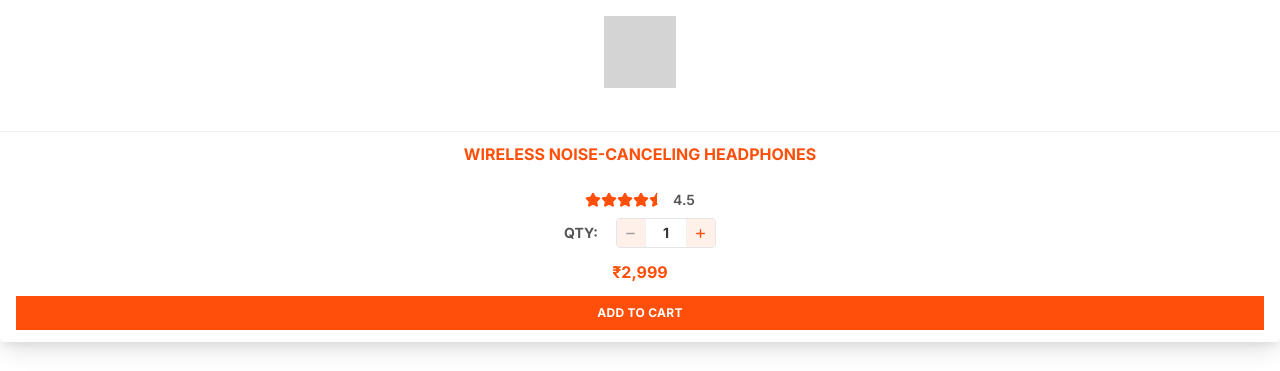
Scenario: ProductCard Component › increments quantity and updates formatted total price
What coordinates should you click on to do the following:
click the button named "increase quantity"
I would click on:
 (701, 233)
Its box is [687, 219, 715, 247].
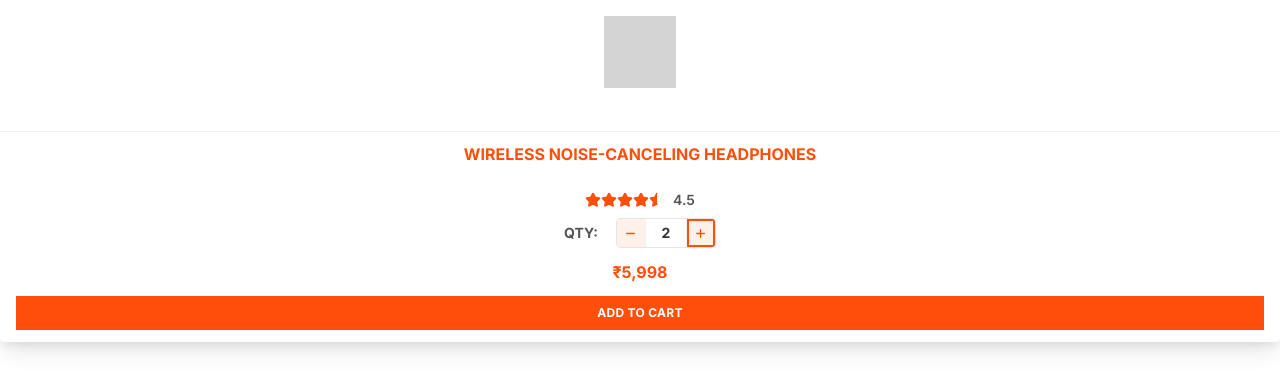
expect the number field named "quantity" holds "2": met, box [645, 219, 687, 247]
expect the text "₹5,998" is shown: met, box [612, 260, 668, 284]
